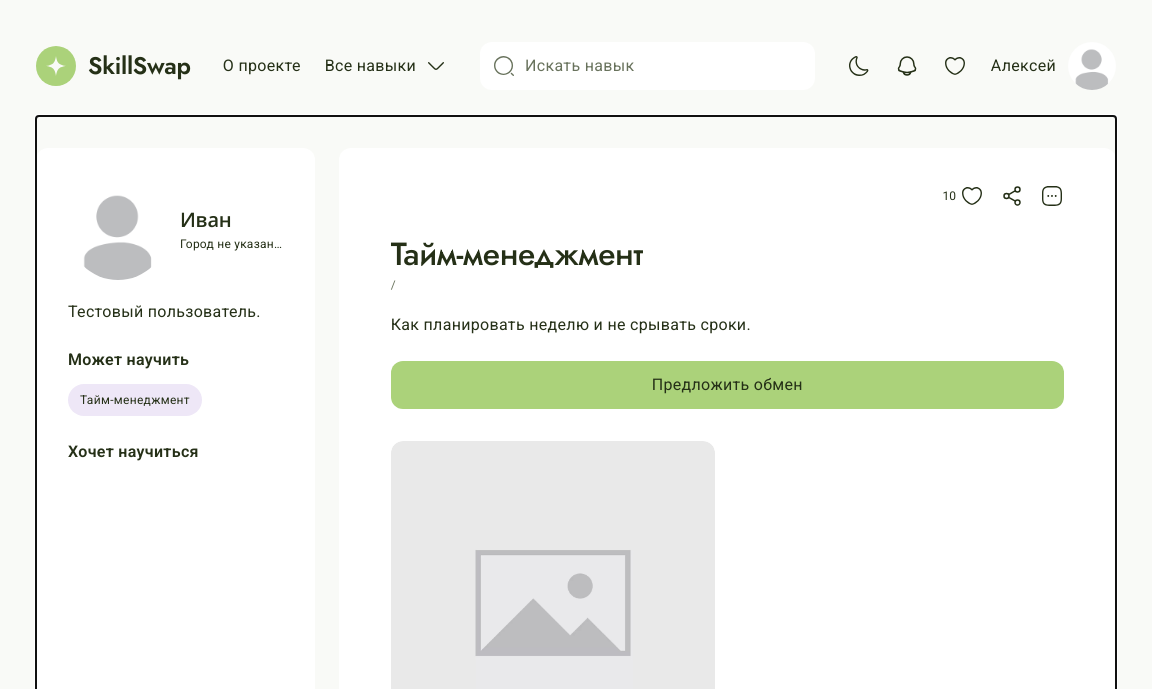
Test case: MainLayout: после сбоя уведомления каталог оставляет доступ к навыку для повтора без дублей
Step 1. Click the button "Предложить обмен" → click(727, 385), box top-left (391, 361), bottom-right (1064, 409)
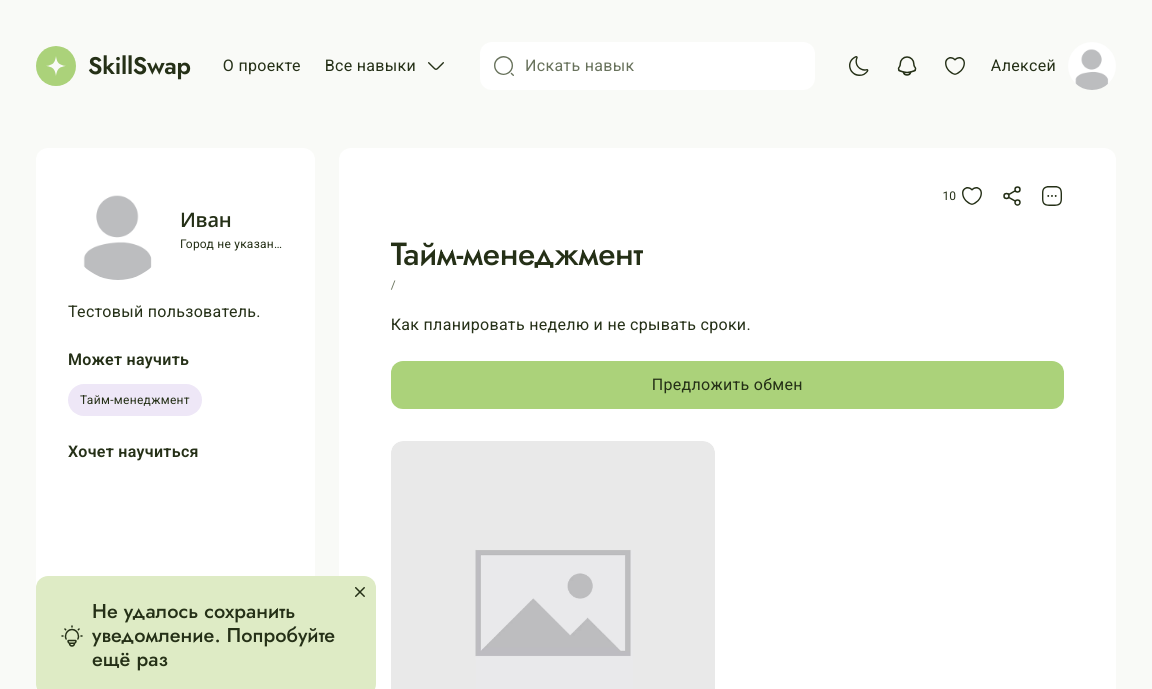
Step 2. Click the link "SkillSwap" → click(113, 66), box top-left (36, 46), bottom-right (191, 86)
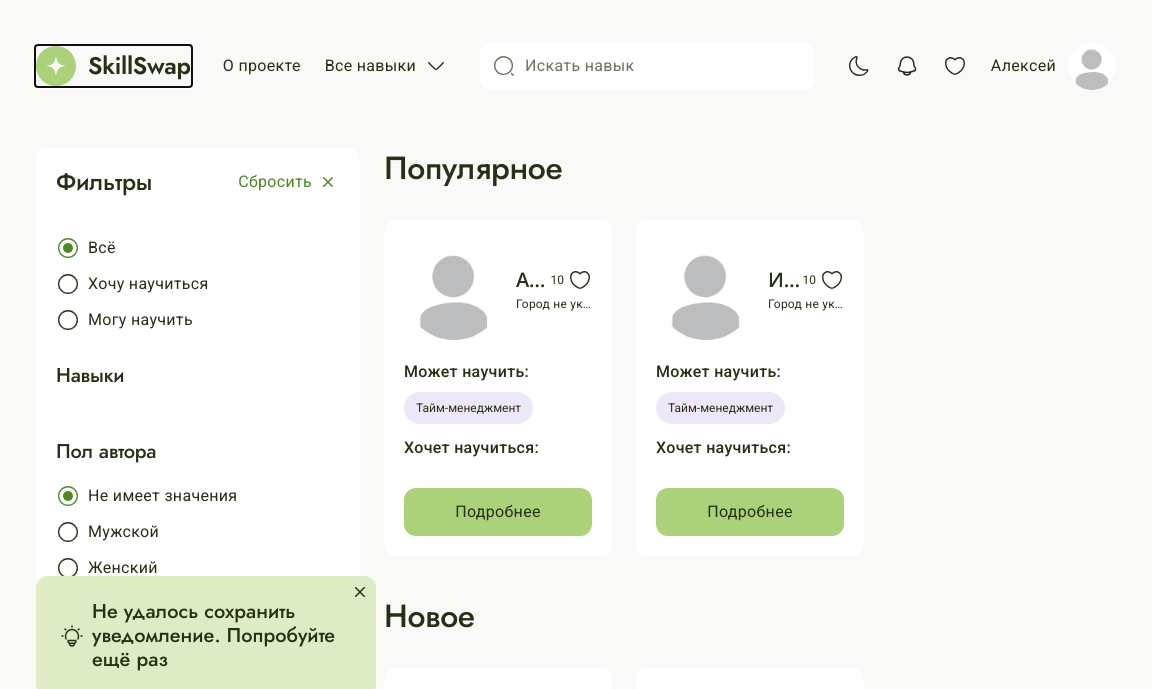
Check: the element that starts with "Иван" is shown, box top-left (636, 220), bottom-right (864, 556)
Step 3. Click the 2nd link "Подробнее" → click(750, 512), box top-left (656, 488), bottom-right (844, 536)
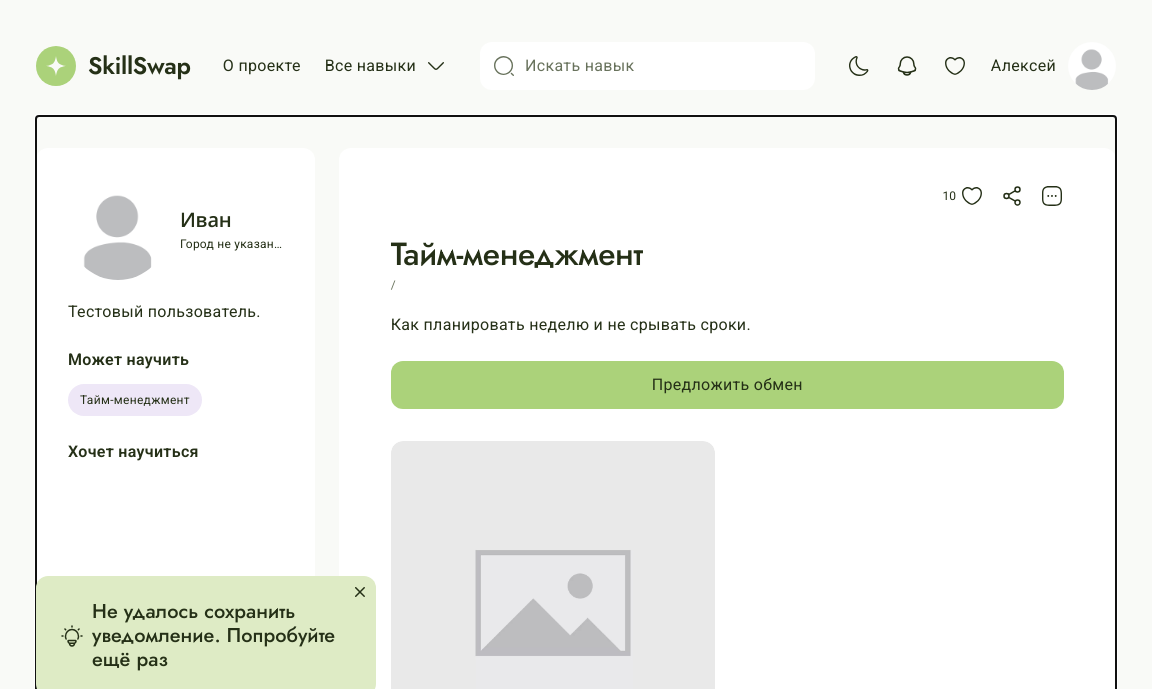
Step 4. Click the button "Предложить обмен" → click(727, 385), box top-left (391, 361), bottom-right (1064, 409)
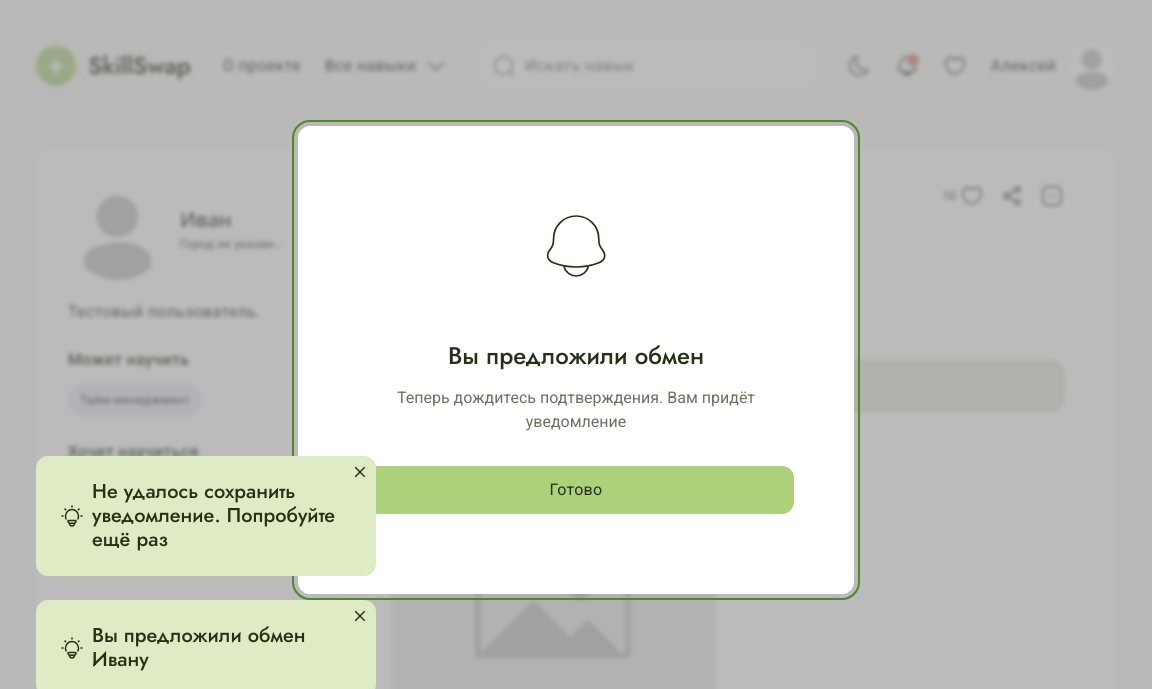
Check: the dialog "Вы предложили обмен" is shown, box top-left (298, 126), bottom-right (854, 594)
